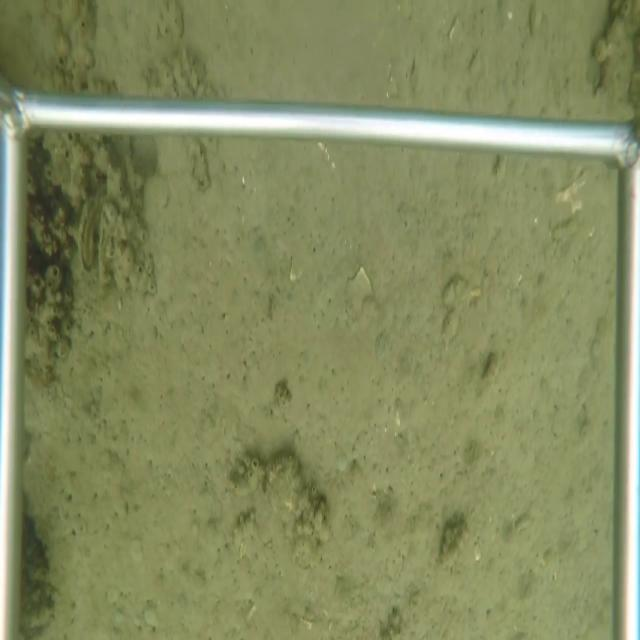Oyster-Closed: (77, 191, 98, 280)
